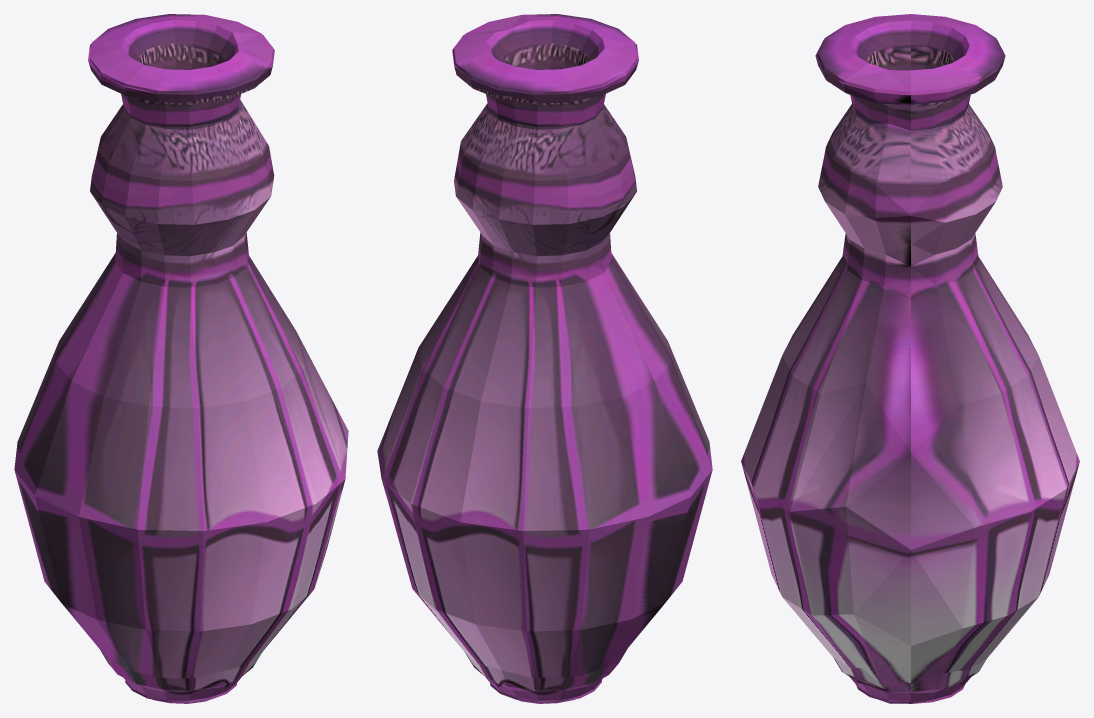
The model's file is TheVase.glb.
3 renders of one model, left to right at view 1: azimuth 30°, elevation 25°; view 2: azimuth 150°, elevation 25°; view 3: azimuth 270°, elevation 25°, orthographic.
Parts seen in each view (by area): view 1: TheVase; view 2: TheVase; view 3: TheVase.
Boxes of the visible parts, x1,y1,x2,y2 form: TheVase: (14,14,348,703); TheVase: (377,14,712,703); TheVase: (741,14,1079,703).
Bounding box in the file's own units: 69.41 × 145 × 69.53.
1 material, 1 textured.
